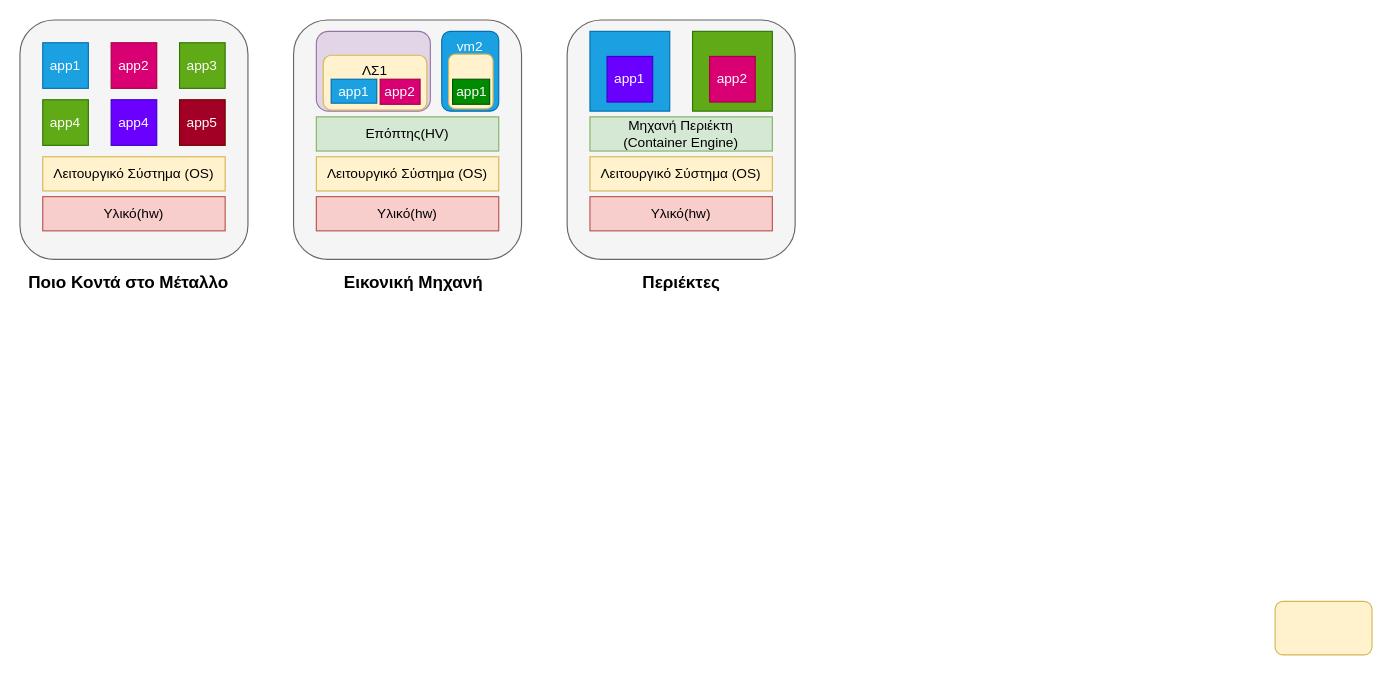
The diagram is 1392 pixels wide and 675 high, and some of its shapes have lost their labels. Here are the shapes that lost their labels. From the top down, the box of each, then its label:
(315, 30, 430, 111): Virtual Machine1
(447, 53, 493, 109): ΛΣ2
(589, 30, 670, 111): container1
(691, 30, 772, 111): container2
(1274, 600, 1372, 655): Λειτ.Συστ.1
